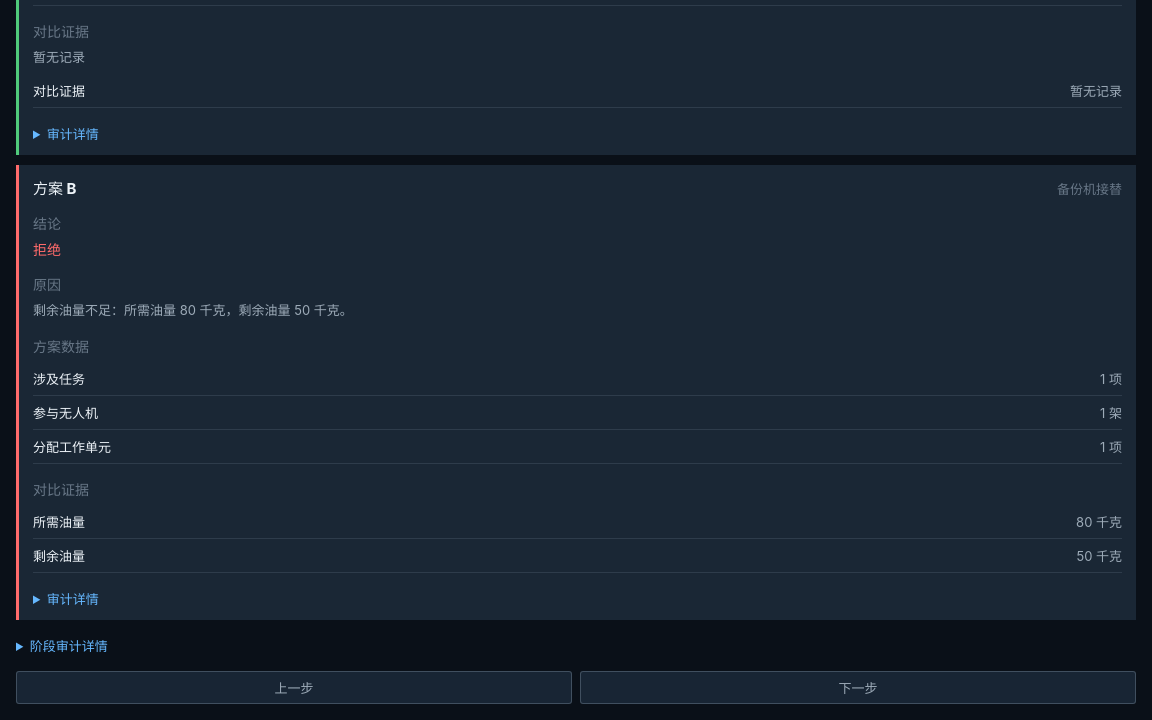
Test case: decision process panel › keeps raw IDs and codes in a closed audit block
(page scrolled)
Expected: the text "CAND-REJECTED" is not shown
Click the heading "审计详情" below "分配工作单元": click(73, 599) [47, 591, 99, 607]
(page scrolled)
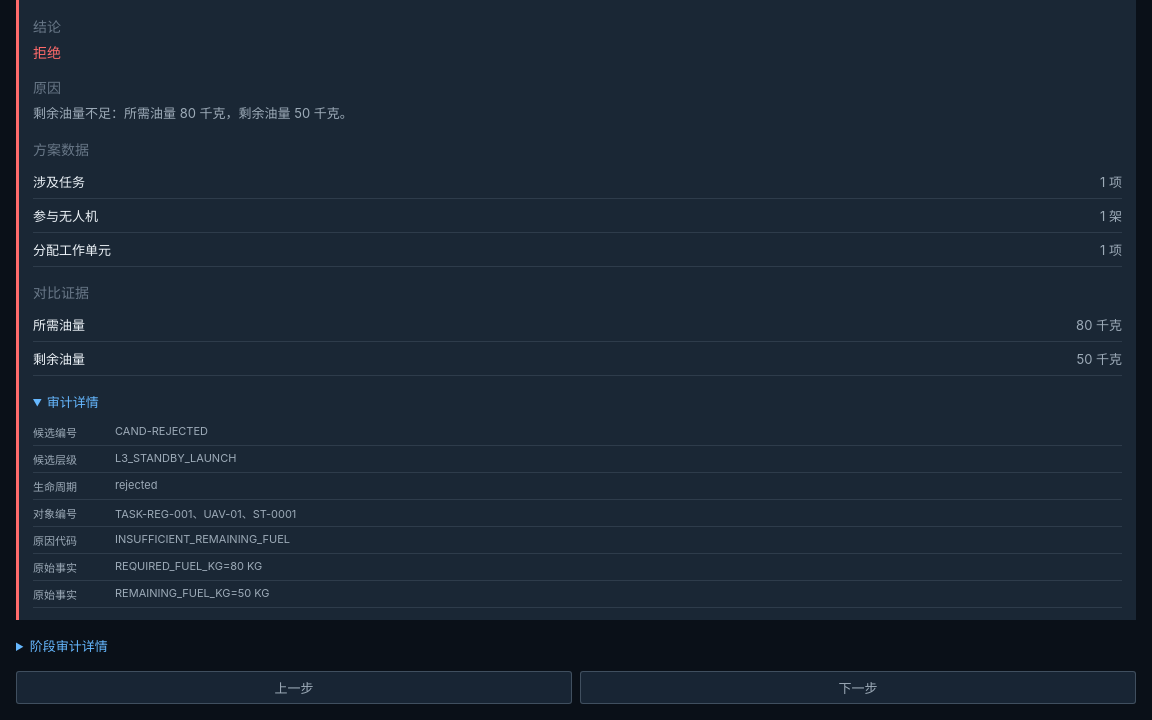
Now the text "CAND-REJECTED" is shown, box [115, 424, 208, 438]
Now the text "INSUFFICIENT_REMAINING_FUEL" is shown, box [115, 532, 290, 546]
